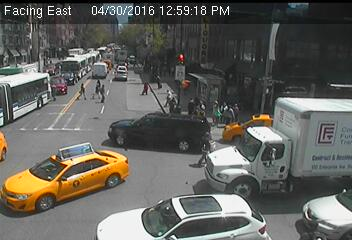neg: (276, 141, 320, 199), (94, 147, 129, 194), (155, 154, 189, 199), (231, 93, 262, 135), (301, 81, 332, 123), (150, 3, 179, 41), (233, 58, 260, 93), (234, 171, 260, 205), (40, 129, 63, 159), (59, 34, 82, 63), (200, 33, 222, 63), (11, 165, 32, 192), (27, 98, 45, 122), (20, 78, 37, 101), (84, 216, 101, 239), (70, 7, 84, 25), (42, 56, 55, 72), (103, 4, 113, 17)
pos: (191, 129, 223, 171), (74, 81, 94, 109), (89, 75, 107, 98), (209, 99, 226, 122), (95, 83, 111, 104), (151, 74, 166, 95), (160, 88, 175, 107), (139, 78, 153, 97)
